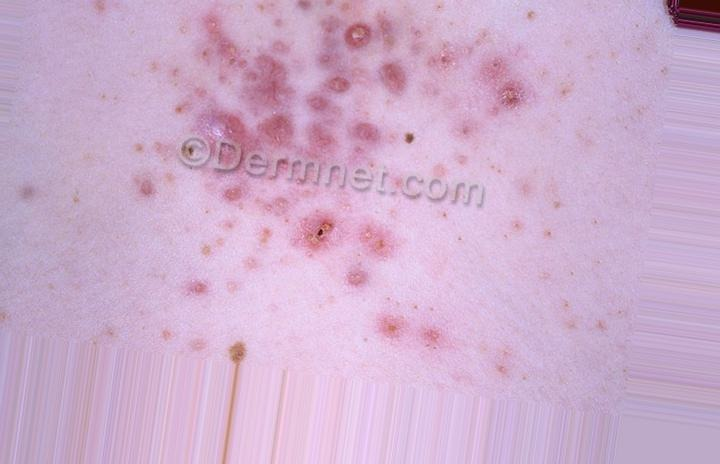Acne: (173, 0, 514, 299)
